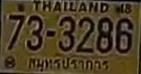2: (76, 16, 93, 52)
3: (58, 15, 74, 51), (26, 15, 42, 50)
6: (115, 17, 132, 52)
7: (8, 14, 24, 49)
8: (96, 16, 112, 52)
SPK: (27, 54, 109, 73)
